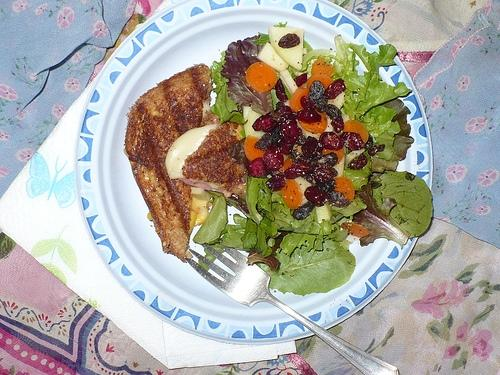carrot: (246, 62, 278, 93), (298, 108, 328, 134), (281, 178, 303, 210), (342, 120, 370, 144), (244, 134, 266, 162), (288, 87, 310, 113), (334, 178, 354, 202), (307, 74, 334, 91), (312, 57, 336, 76), (341, 222, 369, 238), (322, 147, 344, 166), (277, 155, 294, 174)
lettuce: (331, 43, 411, 121), (254, 239, 356, 296), (220, 38, 274, 116), (373, 170, 434, 239), (352, 181, 411, 250), (210, 50, 248, 138), (372, 98, 415, 174), (198, 213, 248, 271), (271, 190, 324, 234), (192, 190, 227, 244), (343, 150, 381, 192), (245, 170, 269, 225), (240, 217, 272, 258), (361, 105, 397, 137), (333, 34, 359, 76), (374, 120, 400, 160), (279, 232, 316, 257), (250, 22, 287, 46), (246, 252, 279, 270), (292, 64, 312, 82), (302, 39, 312, 56)
